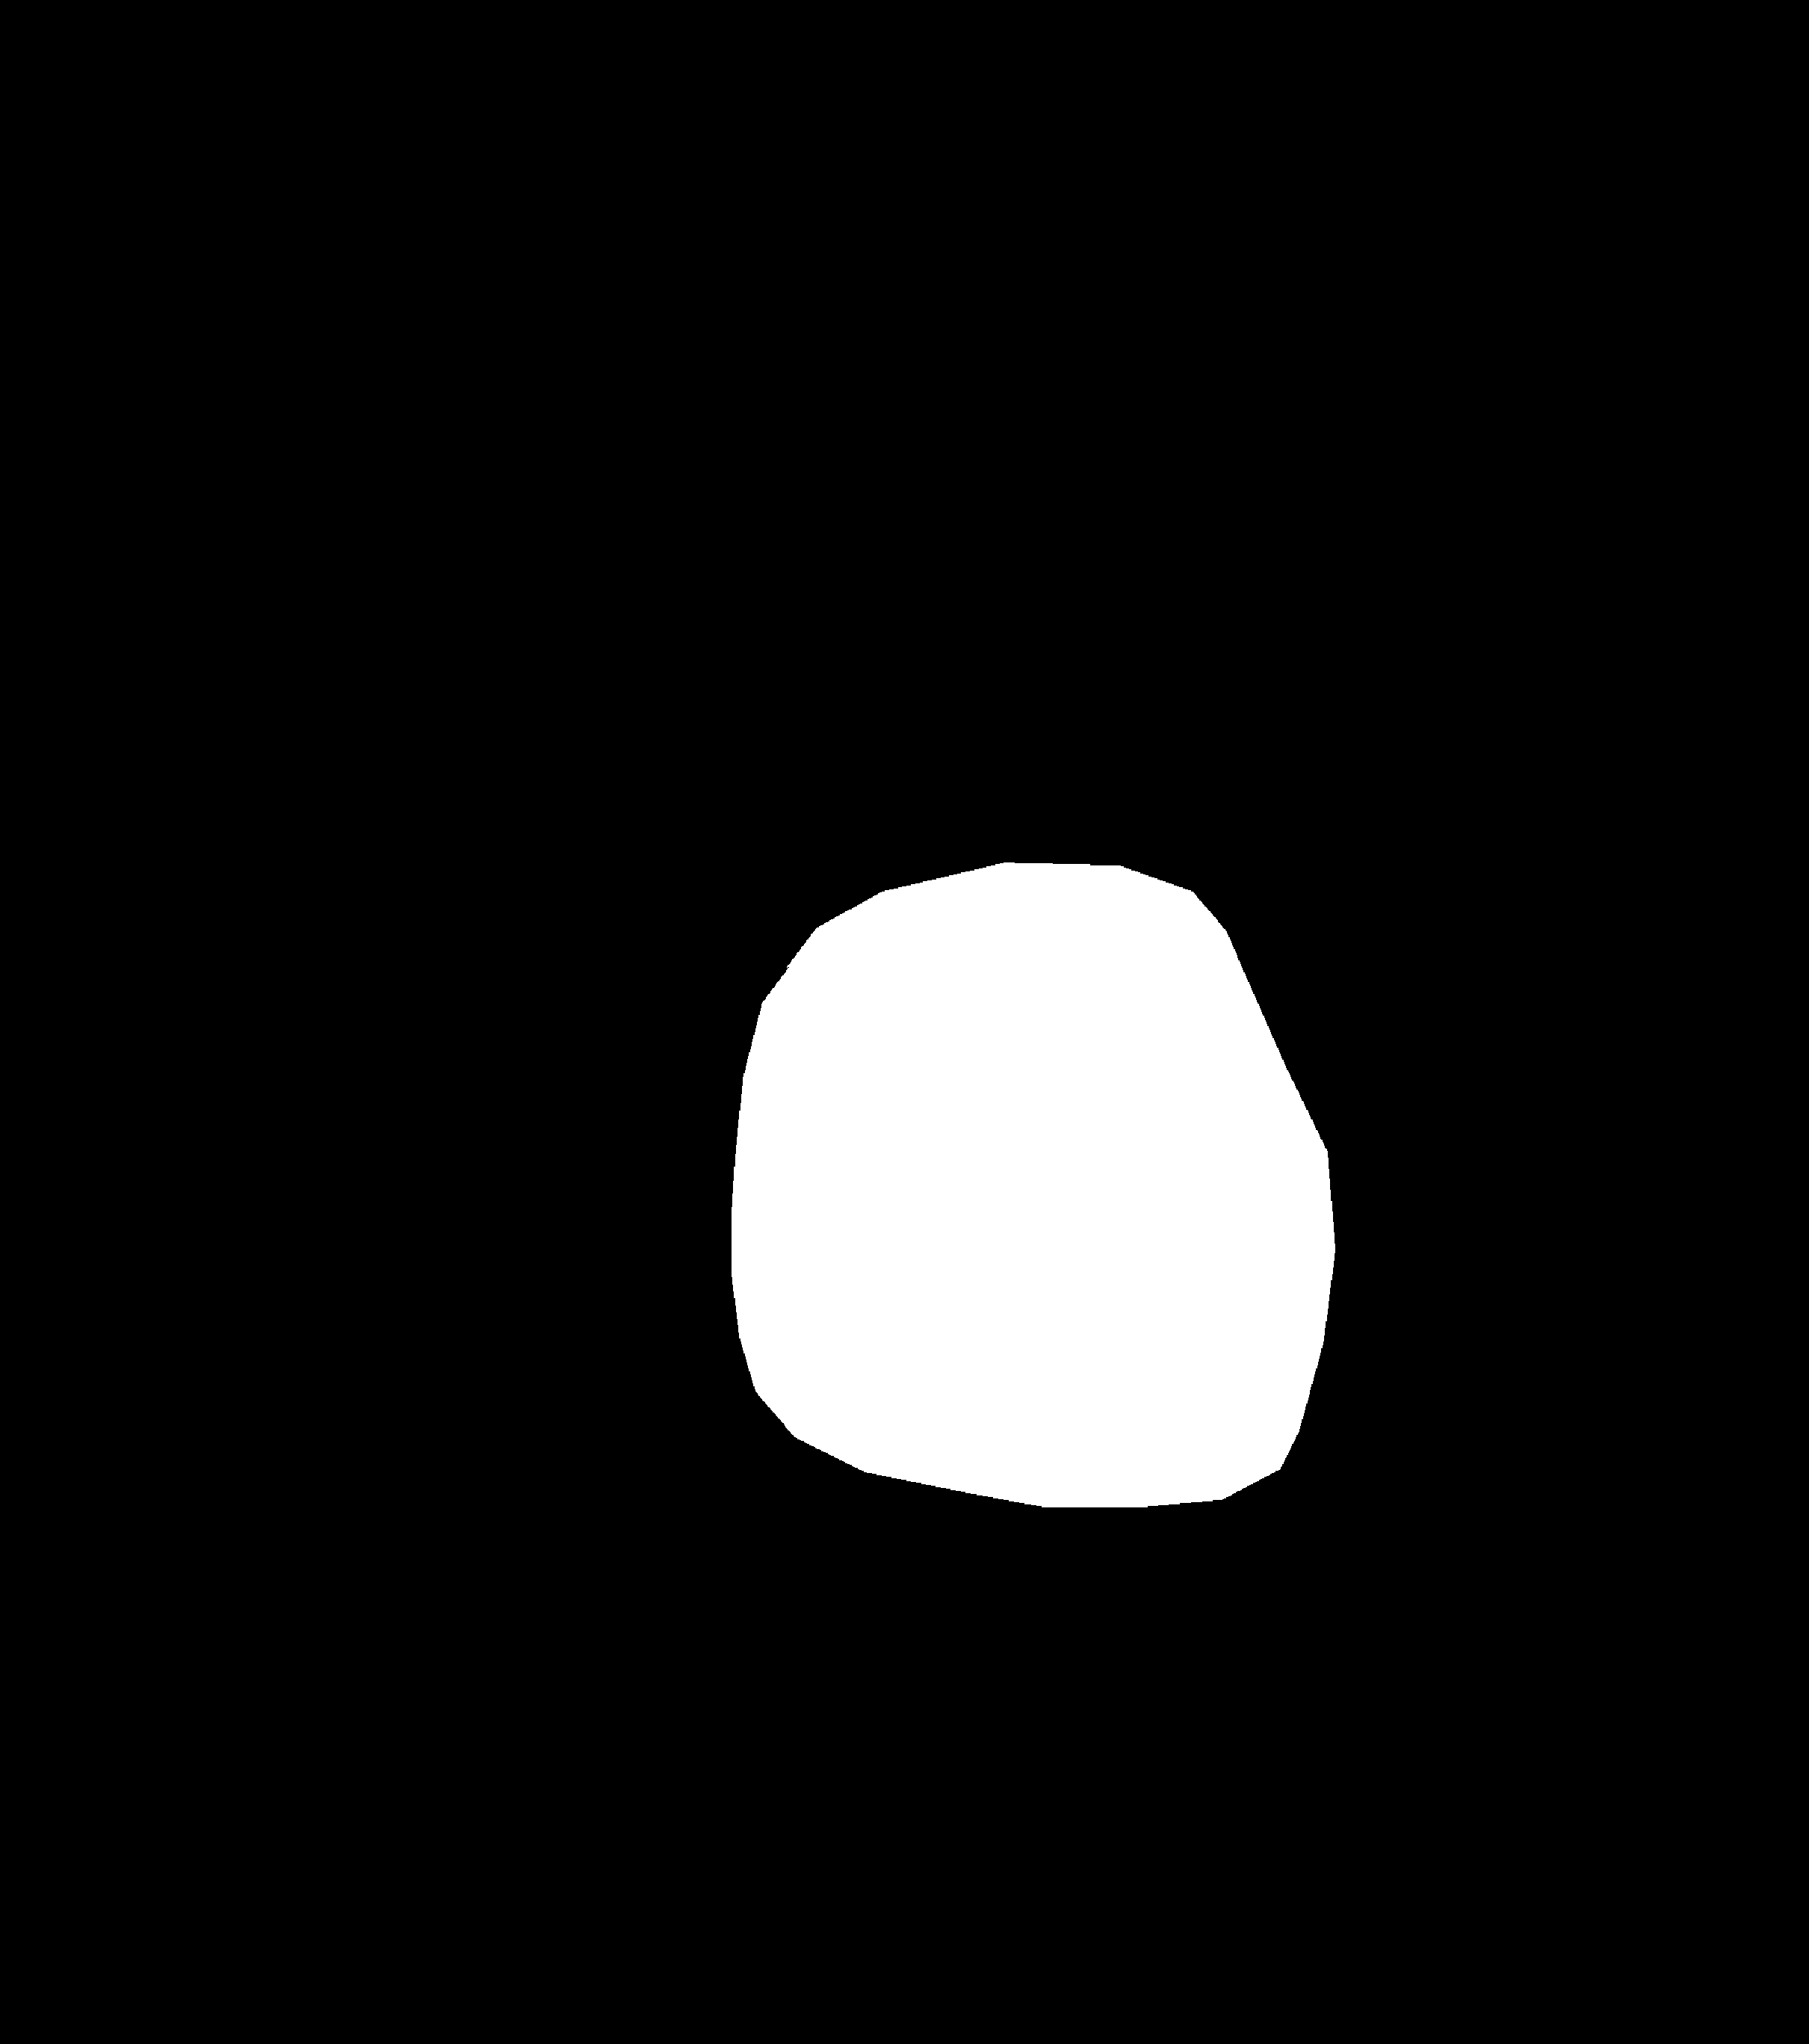heart: (737, 933, 1331, 1532)
left_lung: (178, 222, 866, 1759)
right_lung: (1035, 224, 1601, 1693)
